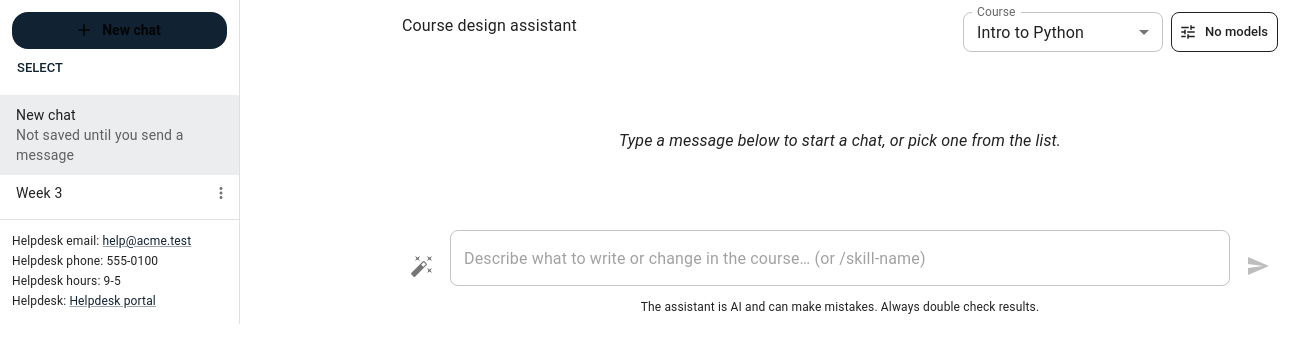
Test: Course Design chat tab › opening a saved chat switches to its course and locks the picker
The width and height of the screenshot is (1295, 341).
Click the button "Week 3".
click(39, 193)  # box [0, 175, 239, 211]
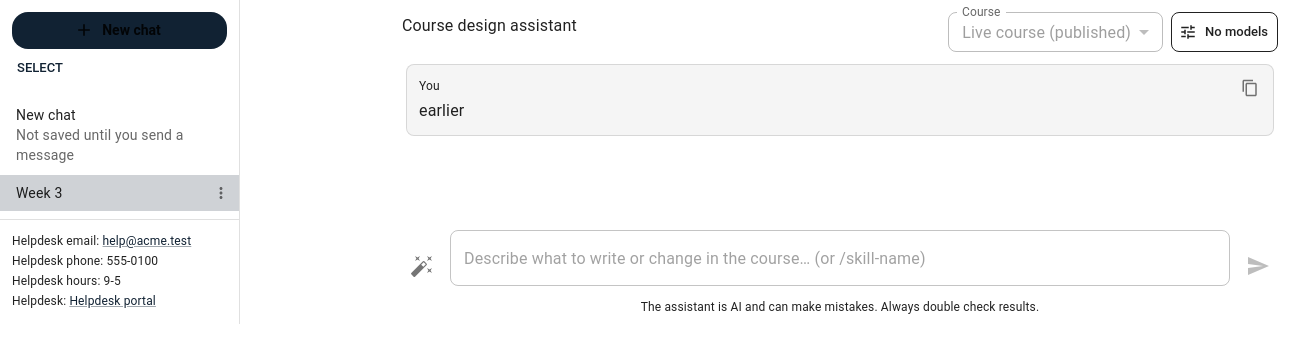
Expected: the text "earlier" is shown, [419, 101, 464, 120]
Expected: the dropdown reads "Live course (published)", [962, 22, 1131, 42]
